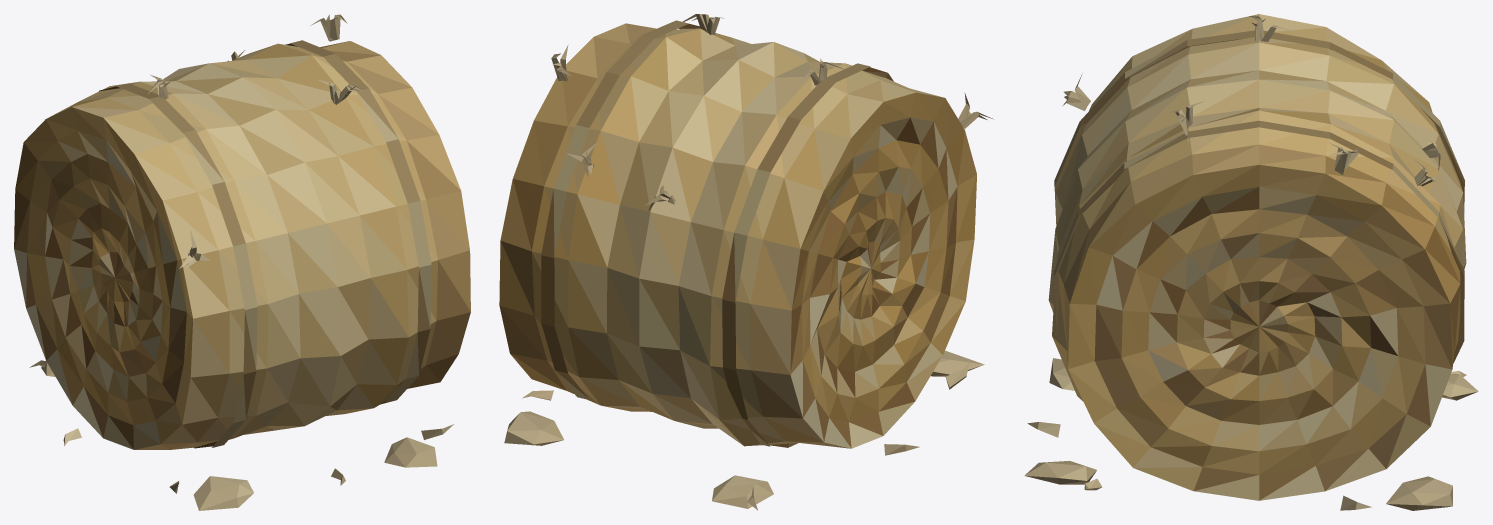
The model's file is haystack-full.glb.
3 views of the same model, side by side, from view 1: azimuth 30°, elevation 25°; view 2: azimuth 150°, elevation 25°; view 3: azimuth 270°, elevation 25° (orthographic). The views are drawn at different scales.
Parts seen in each view (by area): view 1: bale, twine, loose_straw; view 2: bale, twine, loose_straw; view 3: bale, twine, loose_straw.
Boxes of the visible parts, x1,y1,x2,y2 form: bale: (14, 41, 470, 449); twine: (99, 40, 431, 448); loose_straw: (29, 14, 453, 510); bale: (499, 23, 976, 448); twine: (541, 20, 893, 447); loose_straw: (504, 14, 993, 510); bale: (1048, 14, 1466, 500); twine: (1054, 30, 1464, 400); loose_straw: (1024, 16, 1478, 510).
Bounding box in the file's own units: 1.43 × 1.48 × 1.59.
